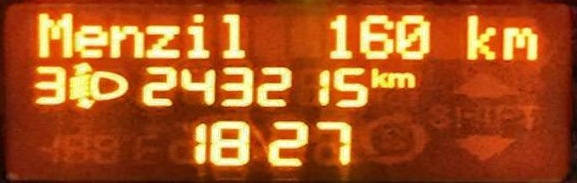0: (393, 12, 429, 63)
1: (325, 12, 356, 59), (189, 119, 205, 168), (313, 64, 329, 108)
2: (267, 116, 309, 168), (255, 63, 295, 109), (138, 63, 176, 108)
3: (31, 63, 67, 106), (220, 64, 253, 108)
4: (178, 65, 217, 108)
5: (333, 64, 366, 109)
6: (358, 12, 395, 59)
7: (315, 118, 355, 167)
8: (209, 118, 252, 167)
X: (34, 8, 74, 59), (467, 12, 501, 63), (217, 8, 247, 59), (144, 21, 182, 61), (503, 25, 540, 62), (185, 11, 214, 58), (107, 22, 143, 59), (74, 20, 107, 59), (385, 69, 416, 89), (368, 65, 388, 89)
